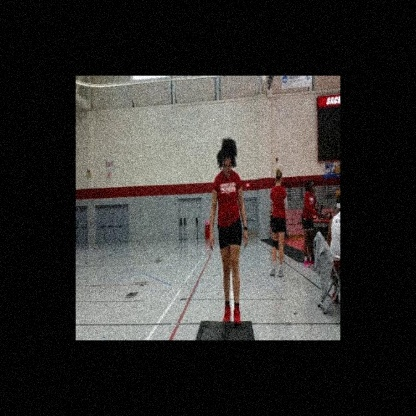lateral_flexion_right: (208, 136, 248, 329)
stance_width_narrow: (208, 168, 249, 329)
